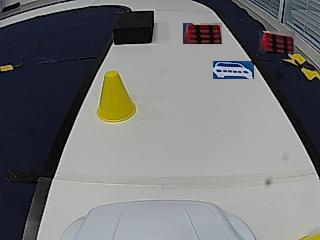block: (113, 10, 153, 44)
cone: (97, 70, 137, 123)
